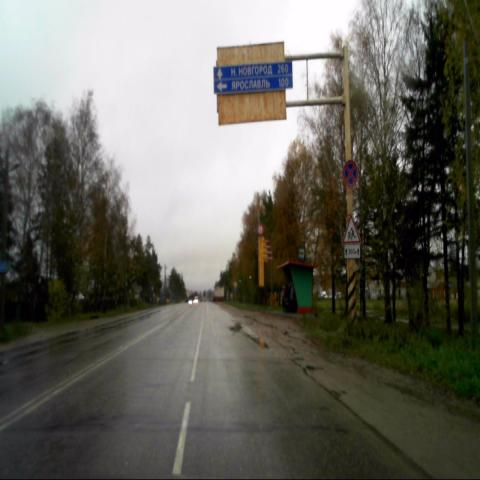8_2_1: (344, 243, 361, 259)
